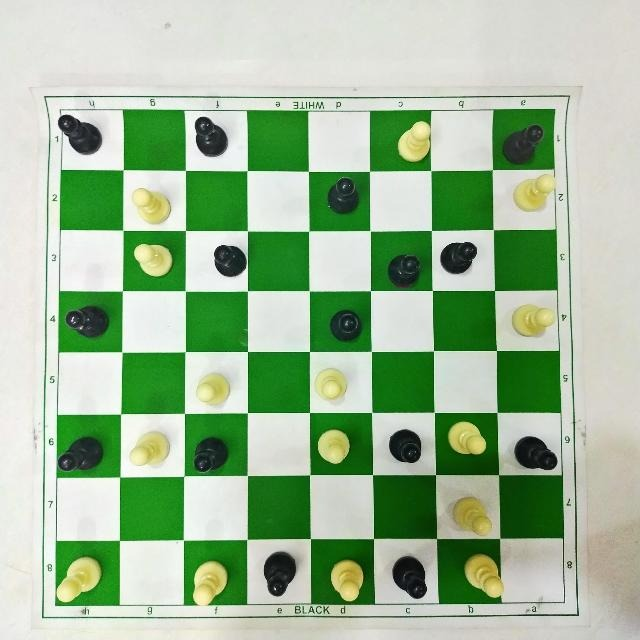black-pawn: (256, 546, 307, 598), (509, 429, 565, 476), (496, 115, 546, 167), (382, 555, 434, 603), (53, 431, 109, 475), (383, 246, 435, 292), (324, 173, 370, 222), (55, 112, 104, 157), (187, 430, 232, 479), (191, 112, 233, 162), (440, 233, 482, 282), (324, 306, 372, 348), (62, 299, 111, 339), (382, 430, 430, 466), (211, 240, 251, 282)
white-pawn: (51, 552, 110, 605), (455, 550, 513, 601), (185, 557, 237, 610), (443, 414, 495, 466), (447, 493, 500, 540), (507, 173, 561, 219), (506, 296, 558, 343), (324, 553, 370, 605), (126, 181, 176, 225), (310, 422, 356, 468), (390, 118, 437, 163), (126, 427, 174, 468), (133, 240, 175, 286), (192, 368, 234, 408), (313, 363, 351, 402)
